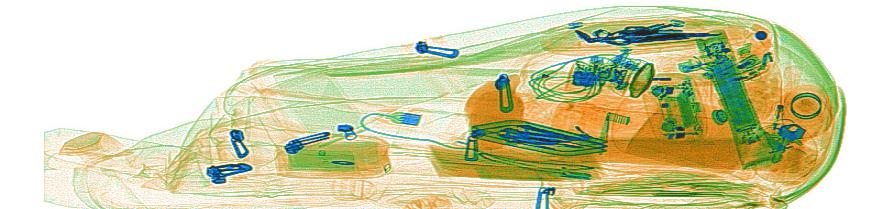battery: (709, 55, 758, 134)
lighter: (763, 63, 805, 148)
plasticBottleWithaNozzle: (555, 88, 757, 172)
